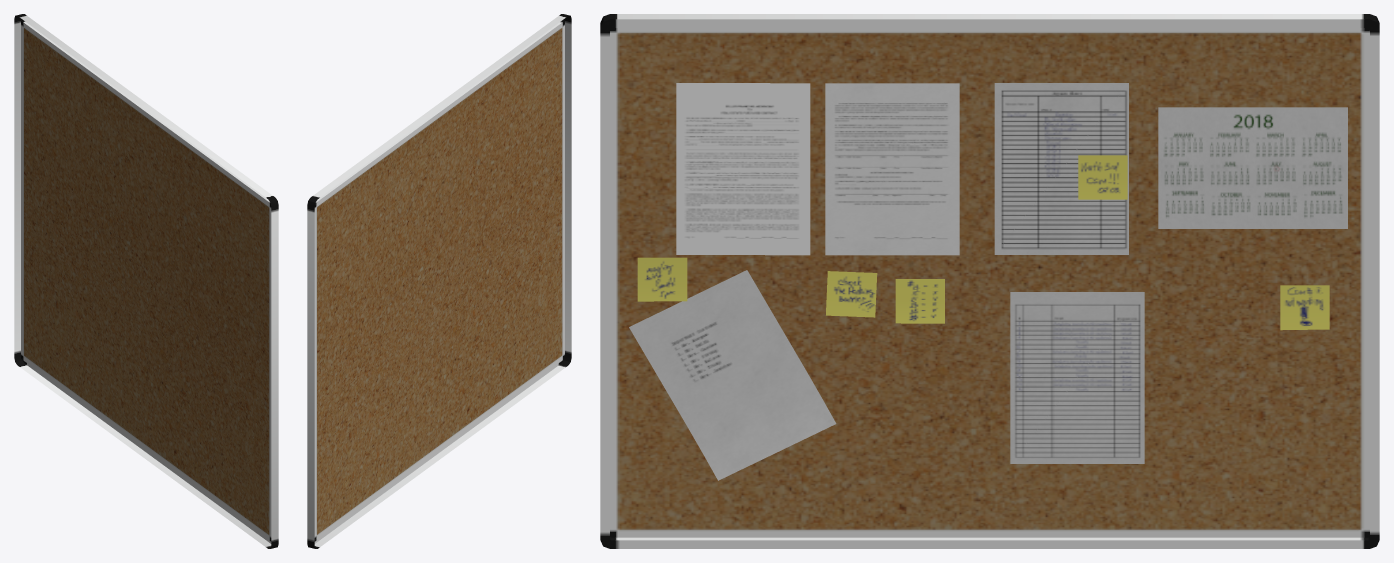
File: meshset_board.fbx
The picture shows the model from 3 angles, left to right: view 1: azimuth 30°, elevation 25°; view 2: azimuth 150°, elevation 25°; view 3: azimuth 270°, elevation 25°; orthographic projection. The views are drawn at different scales.
Parts seen in each view (by area): view 1: meshset_board; view 2: meshset_board; view 3: meshset_board.
Boxes of the visible parts, <box> form: meshset_board: <box>14,14,278,548</box>; meshset_board: <box>307,14,571,548</box>; meshset_board: <box>600,14,1379,548</box>.
Size of the model in its own units: 2.68 by 111 by 148.
